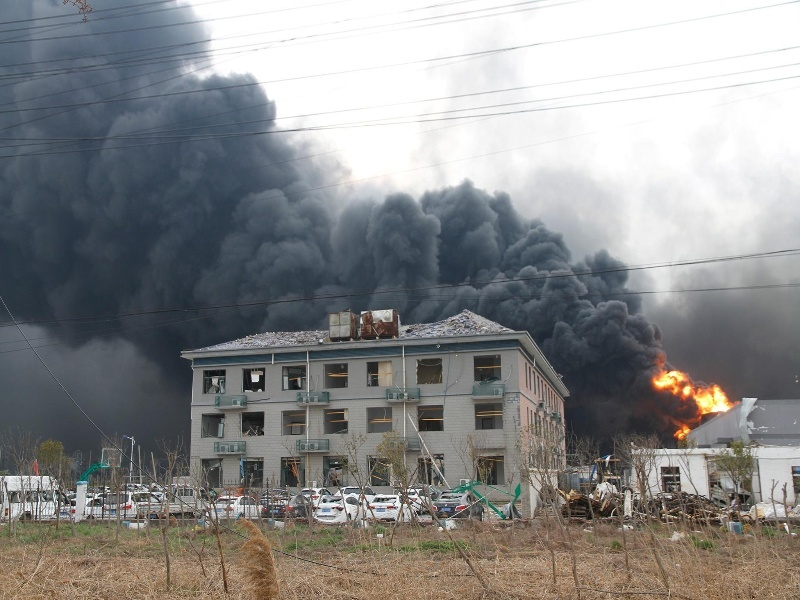smoke: (1, 2, 654, 378)
